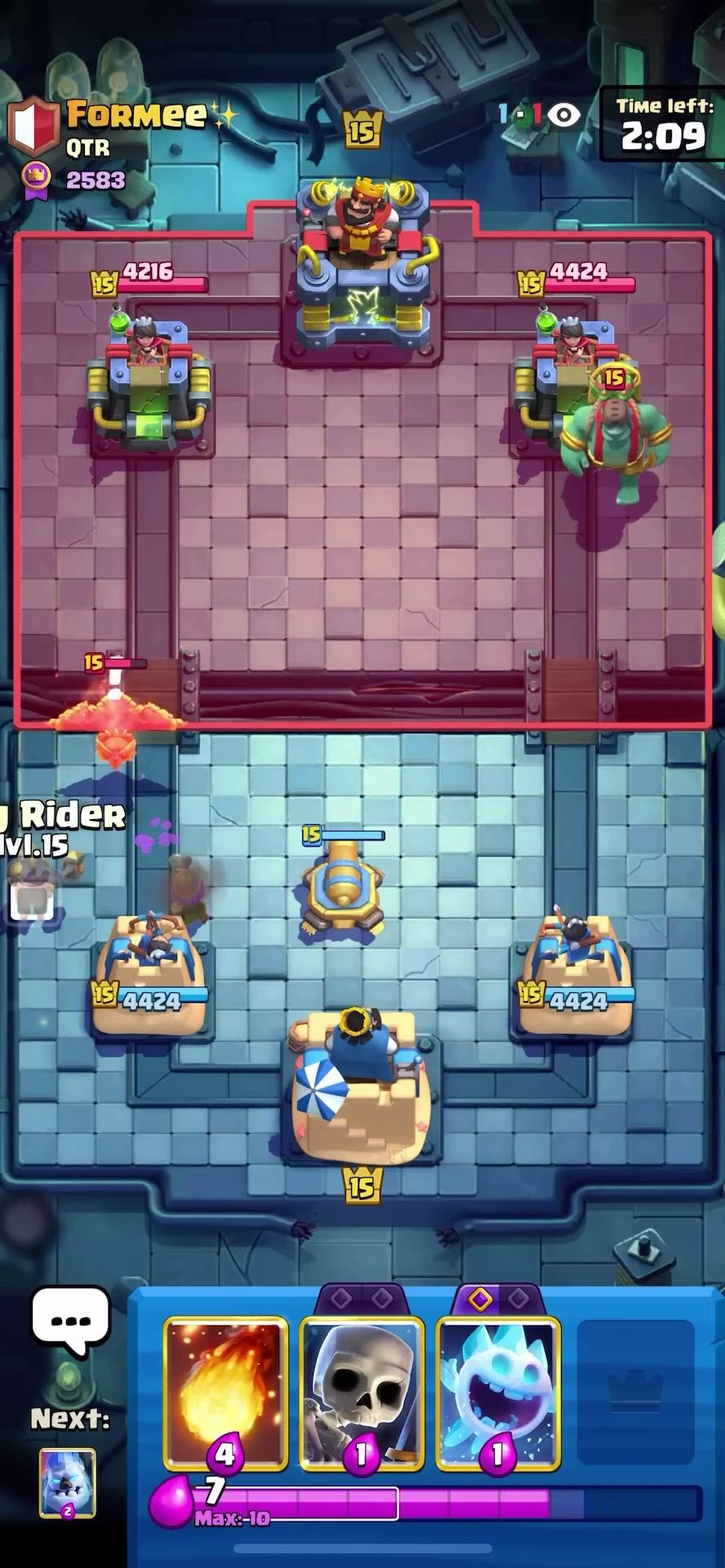cannon: (288, 823, 396, 935)
musketeer: (149, 839, 225, 923)
